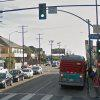Traffic light: (34, 0, 53, 25)
